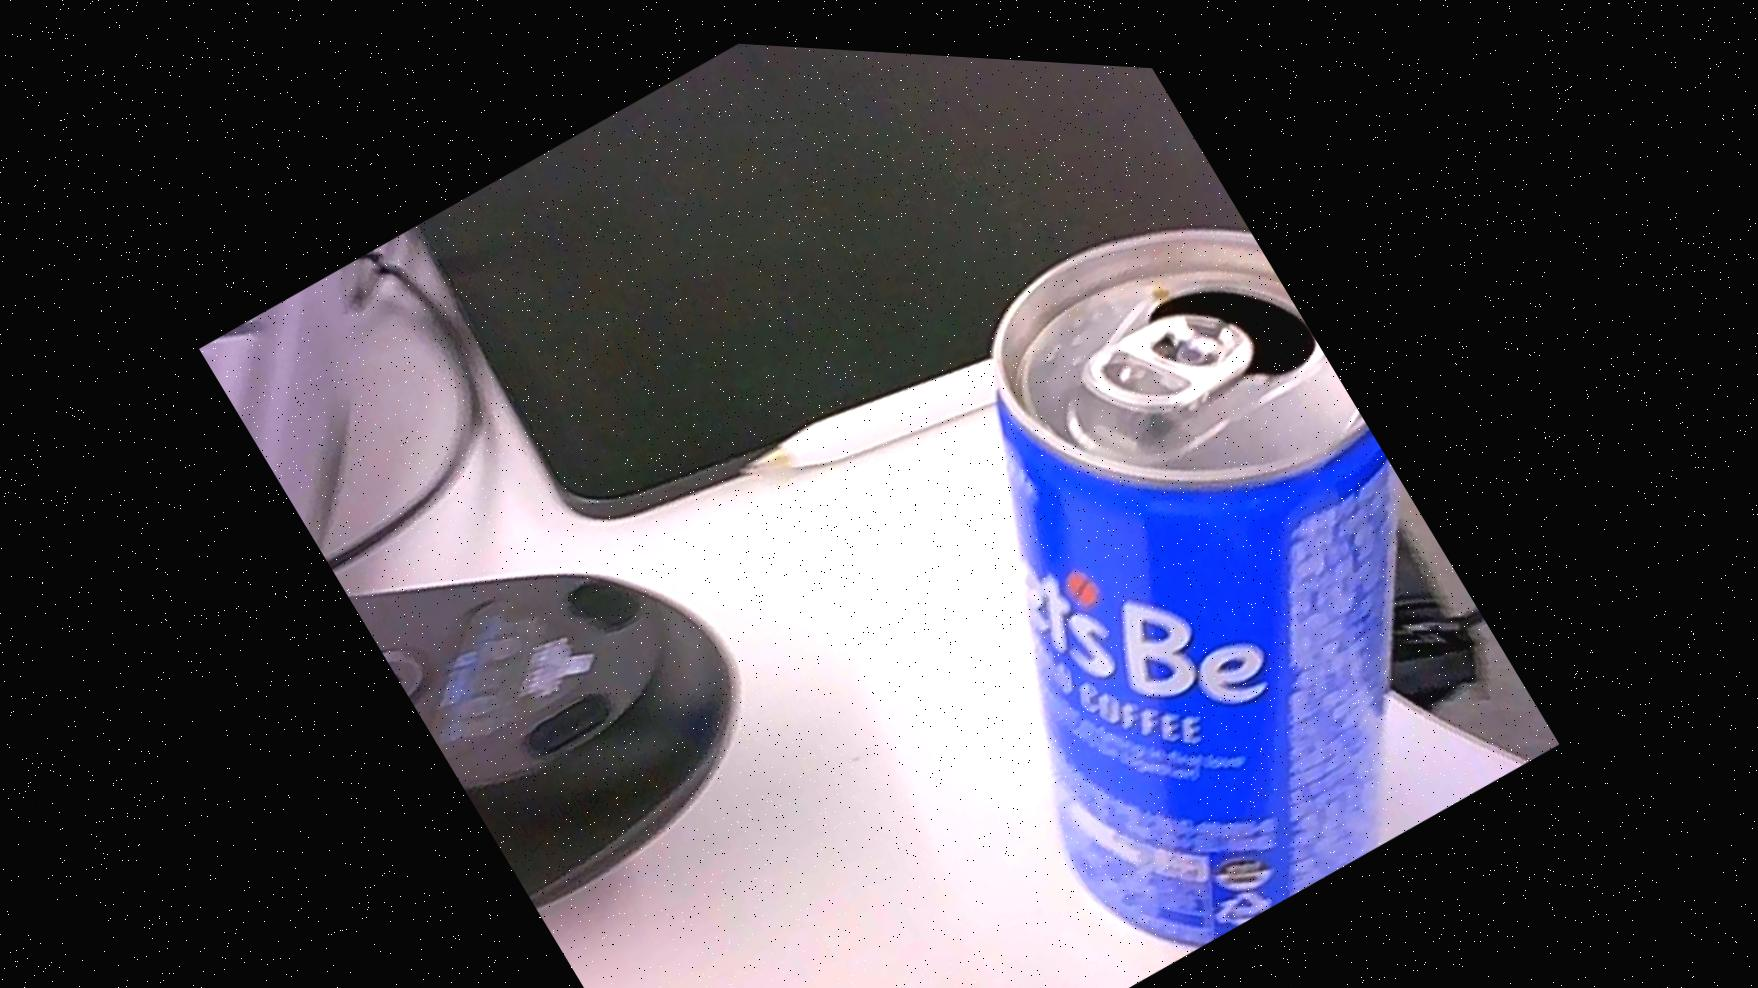letsbe: (792, 138, 1560, 988)
